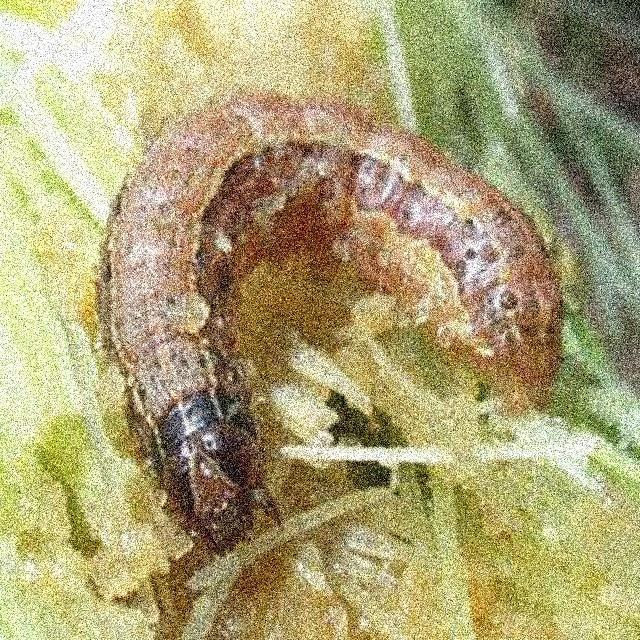gusano_cogollero: (88, 85, 564, 559)
